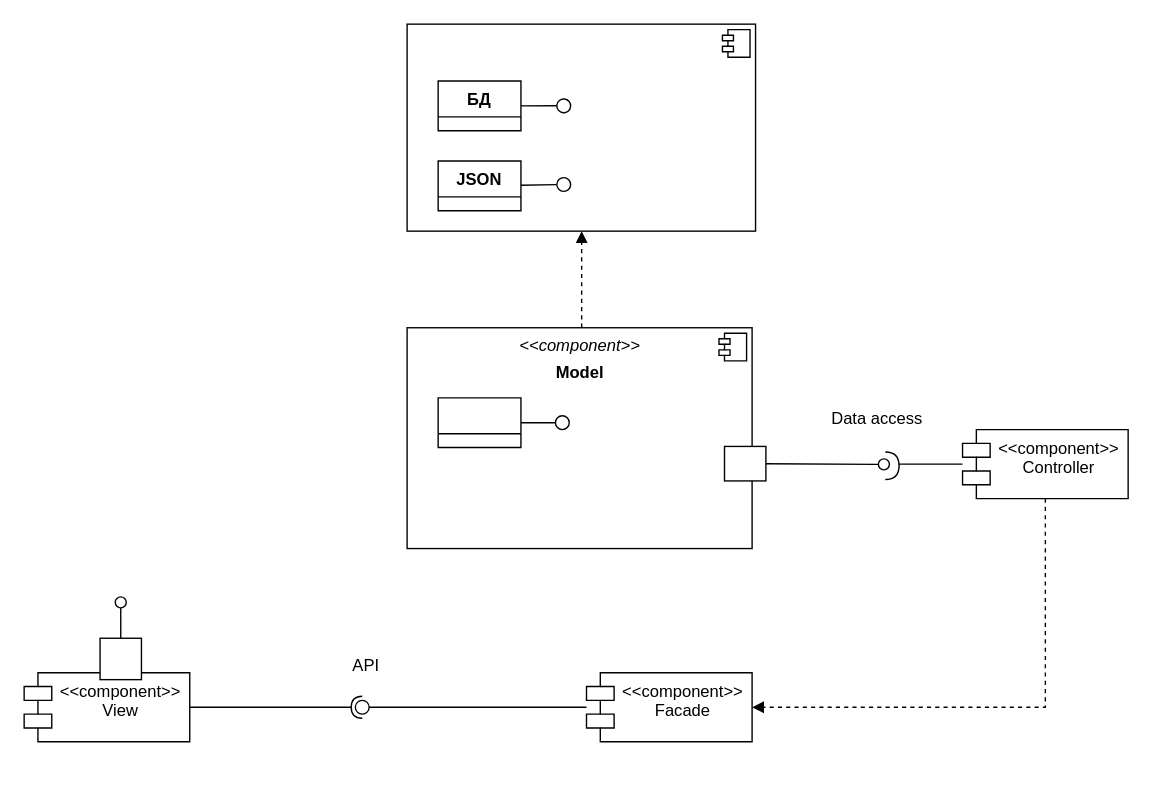
The diagram is 1152 pixels wide and 807 high, and some of its shapes have lost their labels. The box of each missing label's shape, as (x1, y1, x2, y2) in pixels:
<<component>> Provider: (406, 23, 756, 231)
DAO: (437, 396, 521, 448)
